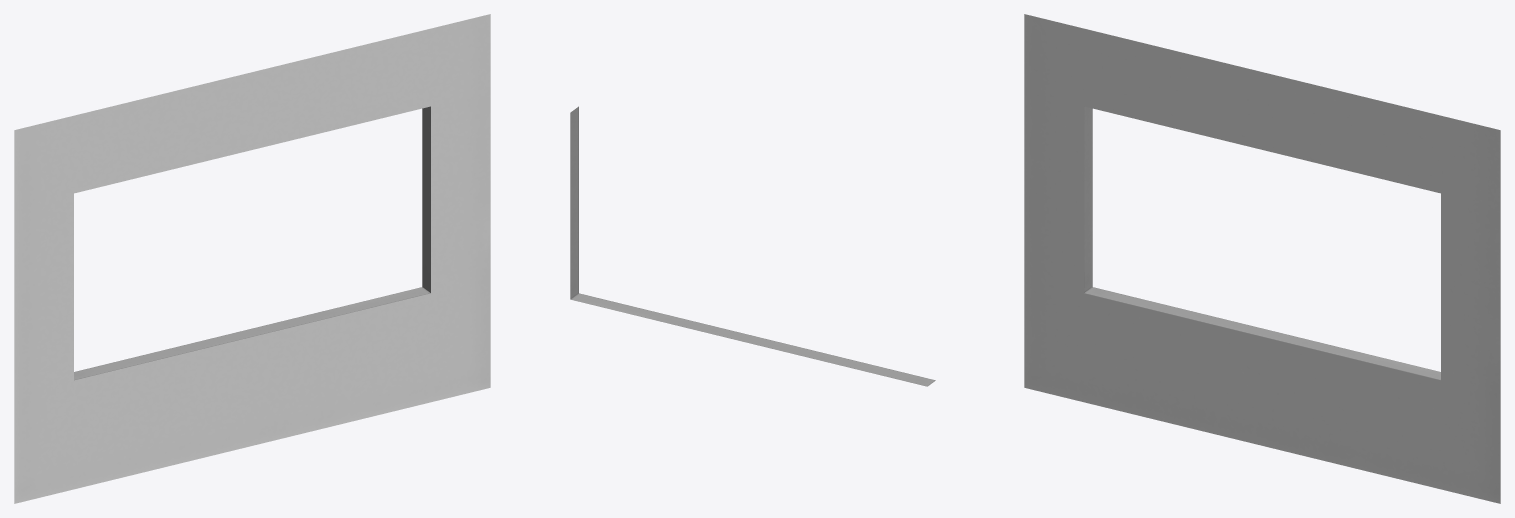
Rendered from Wall4x3Win3x1_5Horz.gltf.
The picture shows the model from 3 angles, left to right: view 1: azimuth 30°, elevation 25°; view 2: azimuth 150°, elevation 25°; view 3: azimuth 330°, elevation 25°; orthographic projection.
Parts seen in each view (by area): view 1: Wall4x3Win3x1_5HorzShape; view 2: Wall4x3Win3x1_5HorzShape; view 3: Wall4x3Win3x1_5HorzShape.
Part boxes in pixels (x1=…): Wall4x3Win3x1_5HorzShape: x1=14, y1=14, x2=490, y2=503; Wall4x3Win3x1_5HorzShape: x1=570, y1=106, x2=935, y2=386; Wall4x3Win3x1_5HorzShape: x1=1024, y1=14, x2=1500, y2=503.
Bounding box in the file's own units: 4 × 3 × 0.125.
1 material, 1 textured.
